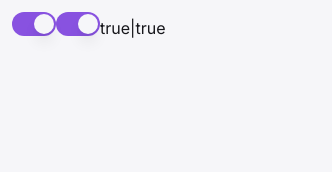
Test: Toggles persistentes (Fortalezas / Áreas a fortalecer) › cambia el estado al hacer click y persiste en localStorage
Click the switch with test id "sw-fort". click: click(34, 24)
box: [12,12,56,36]
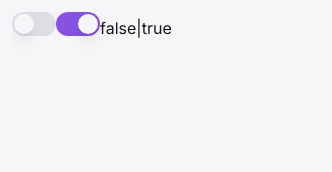
Expected: the text with test id "state" reads "false|true", [100,18,172,38]
Click the switch with test id "sw-areas". click: click(78, 24)
box: [56,12,100,36]
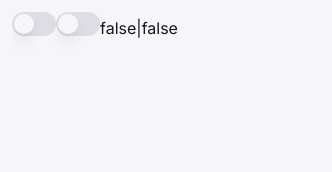
Expected: the text with test id "state" reads "false|false", [100,18,178,38]
